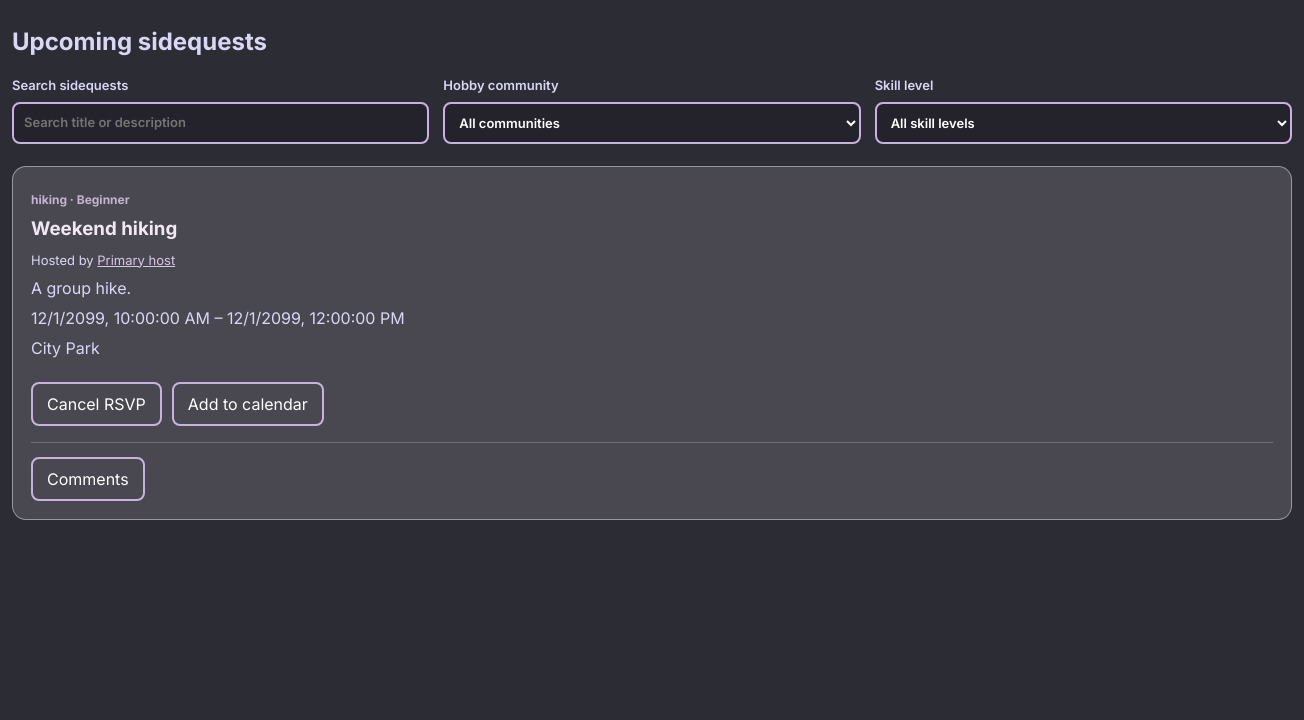
Test: unconfigured client preserves attendance and leaves calendar addition available
The width and height of the screenshot is (1304, 720).
Click the button "Add to calendar".
click(248, 404)  # box [172, 382, 324, 426]
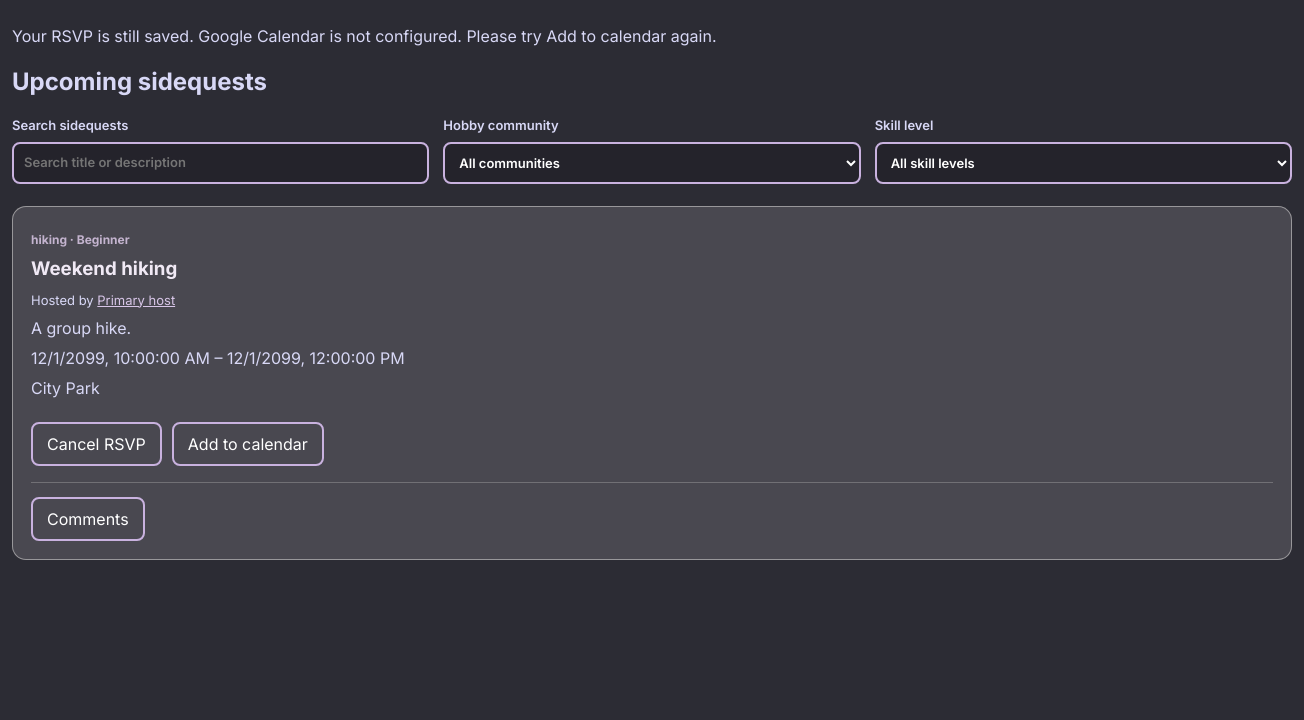
Check: the button "Cancel RSVP" is shown, box [31, 422, 162, 466]
Check: the message shows "Google Calendar is not configured.", box [12, 26, 716, 46]
